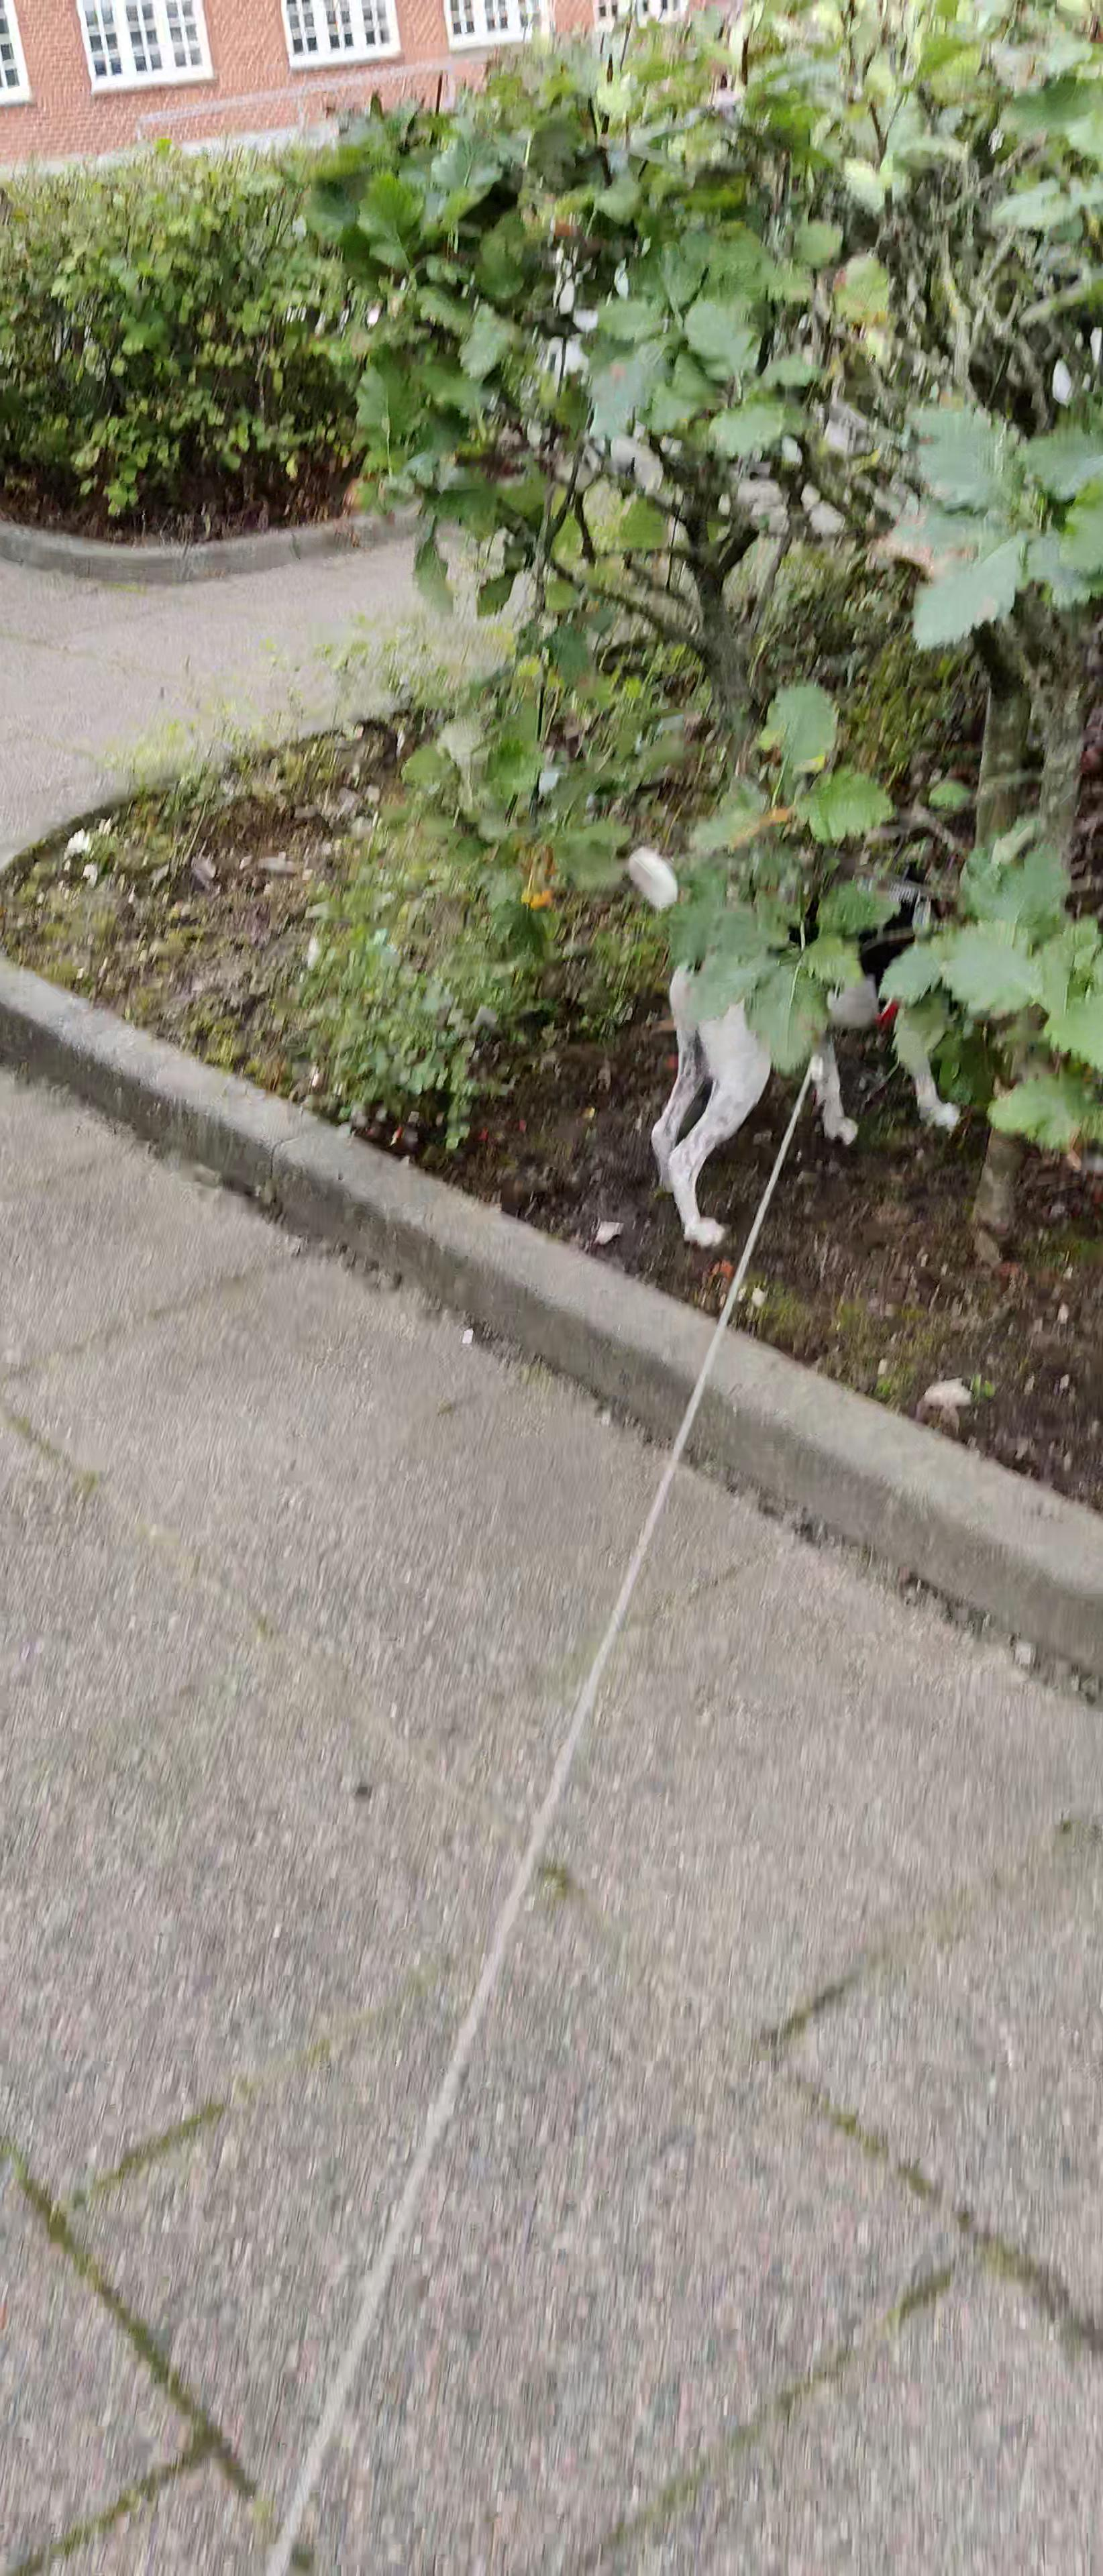Dog: (603, 830, 981, 1253)
